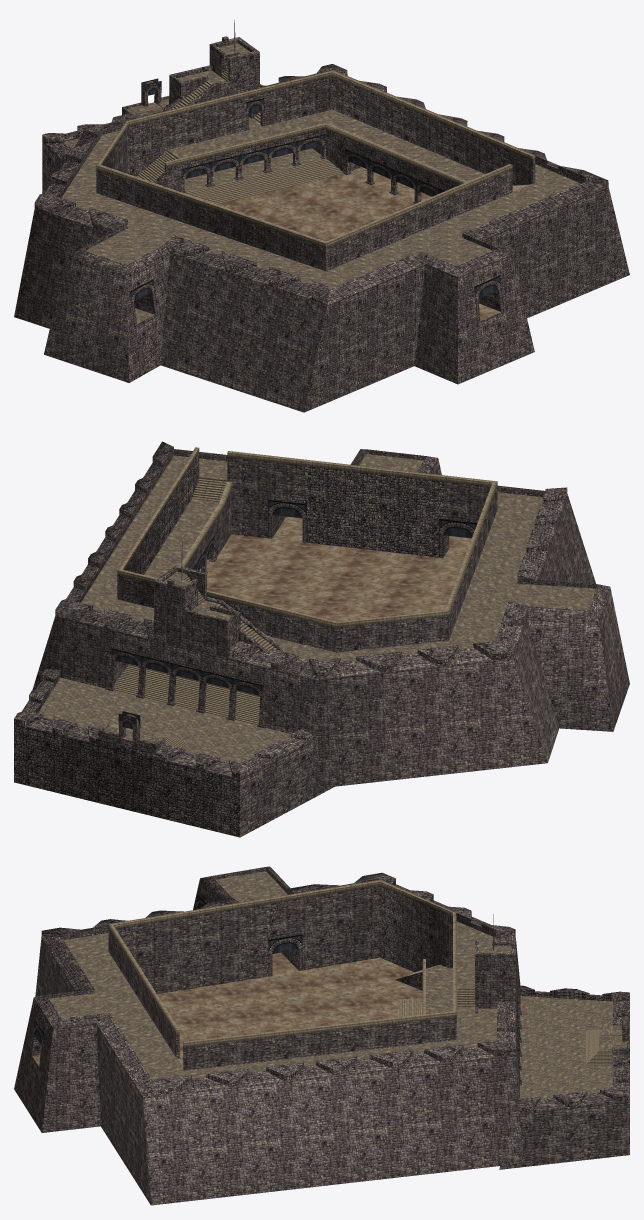
File: pir_m_bld_frt_fortCharles_interior.fbx
The picture shows the model from 3 angles, top to bottom: view 1: azimuth 30°, elevation 25°; view 2: azimuth 150°, elevation 25°; view 3: azimuth 270°, elevation 25°; orthographic projection. The views are drawn at different scales.
Parts seen in each view (by area): view 1: wall_exterior, wall_interior_01, floor_catwalk_upper, wall_entrance_exterior, parapet, floor_ground, interior_wall_trim, floor_catwalk_lower, stairs, wall_interior_02, wall_tower, floor_balcony (+3 smaller); view 2: wall_exterior, wall_interior_01, wall_balcony_exterior, floor_ground, floor_catwalk_upper, parapet, wall_entrance_exterior, floor_balcony, interior_wall_trim, wall_tower, stairs, parapet_balcony_01 (+7 smaller); view 3: wall_exterior, wall_interior_01, floor_ground, floor_catwalk_upper, parapet, floor_balcony, wall_balcony_exterior, interior_wall_trim, wall_tower, parapet_balcony_01, floor_catwalk_lower, wall_entrance_exterior (+5 smaller).
Boxes of the visible parts, bbox=[...] form: wall_exterior: bbox=[14, 186, 629, 412]; wall_interior_01: bbox=[96, 76, 535, 271]; floor_catwalk_upper: bbox=[61, 130, 580, 289]; wall_entrance_exterior: bbox=[44, 229, 169, 382]; parapet: bbox=[34, 64, 608, 304]; floor_ground: bbox=[217, 167, 500, 320]; interior_wall_trim: bbox=[96, 70, 535, 247]; floor_catwalk_lower: bbox=[167, 109, 485, 181]; stairs: bbox=[136, 52, 529, 204]; wall_interior_02: bbox=[153, 128, 459, 192]; wall_tower: bbox=[169, 36, 259, 118]; floor_balcony: bbox=[64, 138, 321, 192]; wall_exterior: bbox=[32, 458, 595, 788]; wall_interior_01: bbox=[117, 452, 497, 652]; wall_balcony_exterior: bbox=[14, 724, 334, 837]; floor_ground: bbox=[199, 516, 471, 621]; floor_catwalk_upper: bbox=[81, 454, 595, 661]; parapet: bbox=[55, 441, 567, 679]; wall_entrance_exterior: bbox=[526, 579, 629, 731]; floor_balcony: bbox=[38, 677, 290, 762]; interior_wall_trim: bbox=[117, 447, 497, 627]; wall_tower: bbox=[154, 565, 283, 657]; stairs: bbox=[114, 477, 276, 725]; parapet_balcony_01: bbox=[14, 669, 313, 778]; wall_exterior: bbox=[14, 937, 523, 1205]; wall_interior_01: bbox=[108, 885, 478, 1070]; floor_ground: bbox=[32, 953, 422, 1066]; floor_catwalk_upper: bbox=[49, 871, 496, 1080]; parapet: bbox=[34, 872, 515, 1096]; floor_balcony: bbox=[520, 996, 612, 1099]; wall_balcony_exterior: bbox=[499, 1100, 629, 1169]; interior_wall_trim: bbox=[108, 879, 457, 1059]; wall_tower: bbox=[475, 940, 515, 1012]; parapet_balcony_01: bbox=[519, 985, 629, 1112]; floor_catwalk_lower: bbox=[426, 968, 453, 1014]; wall_entrance_exterior: bbox=[193, 866, 289, 909].
Size of the model in its own units: 44208 by 16273 by 45779.
Materials: 7 (7 with a texture image).
